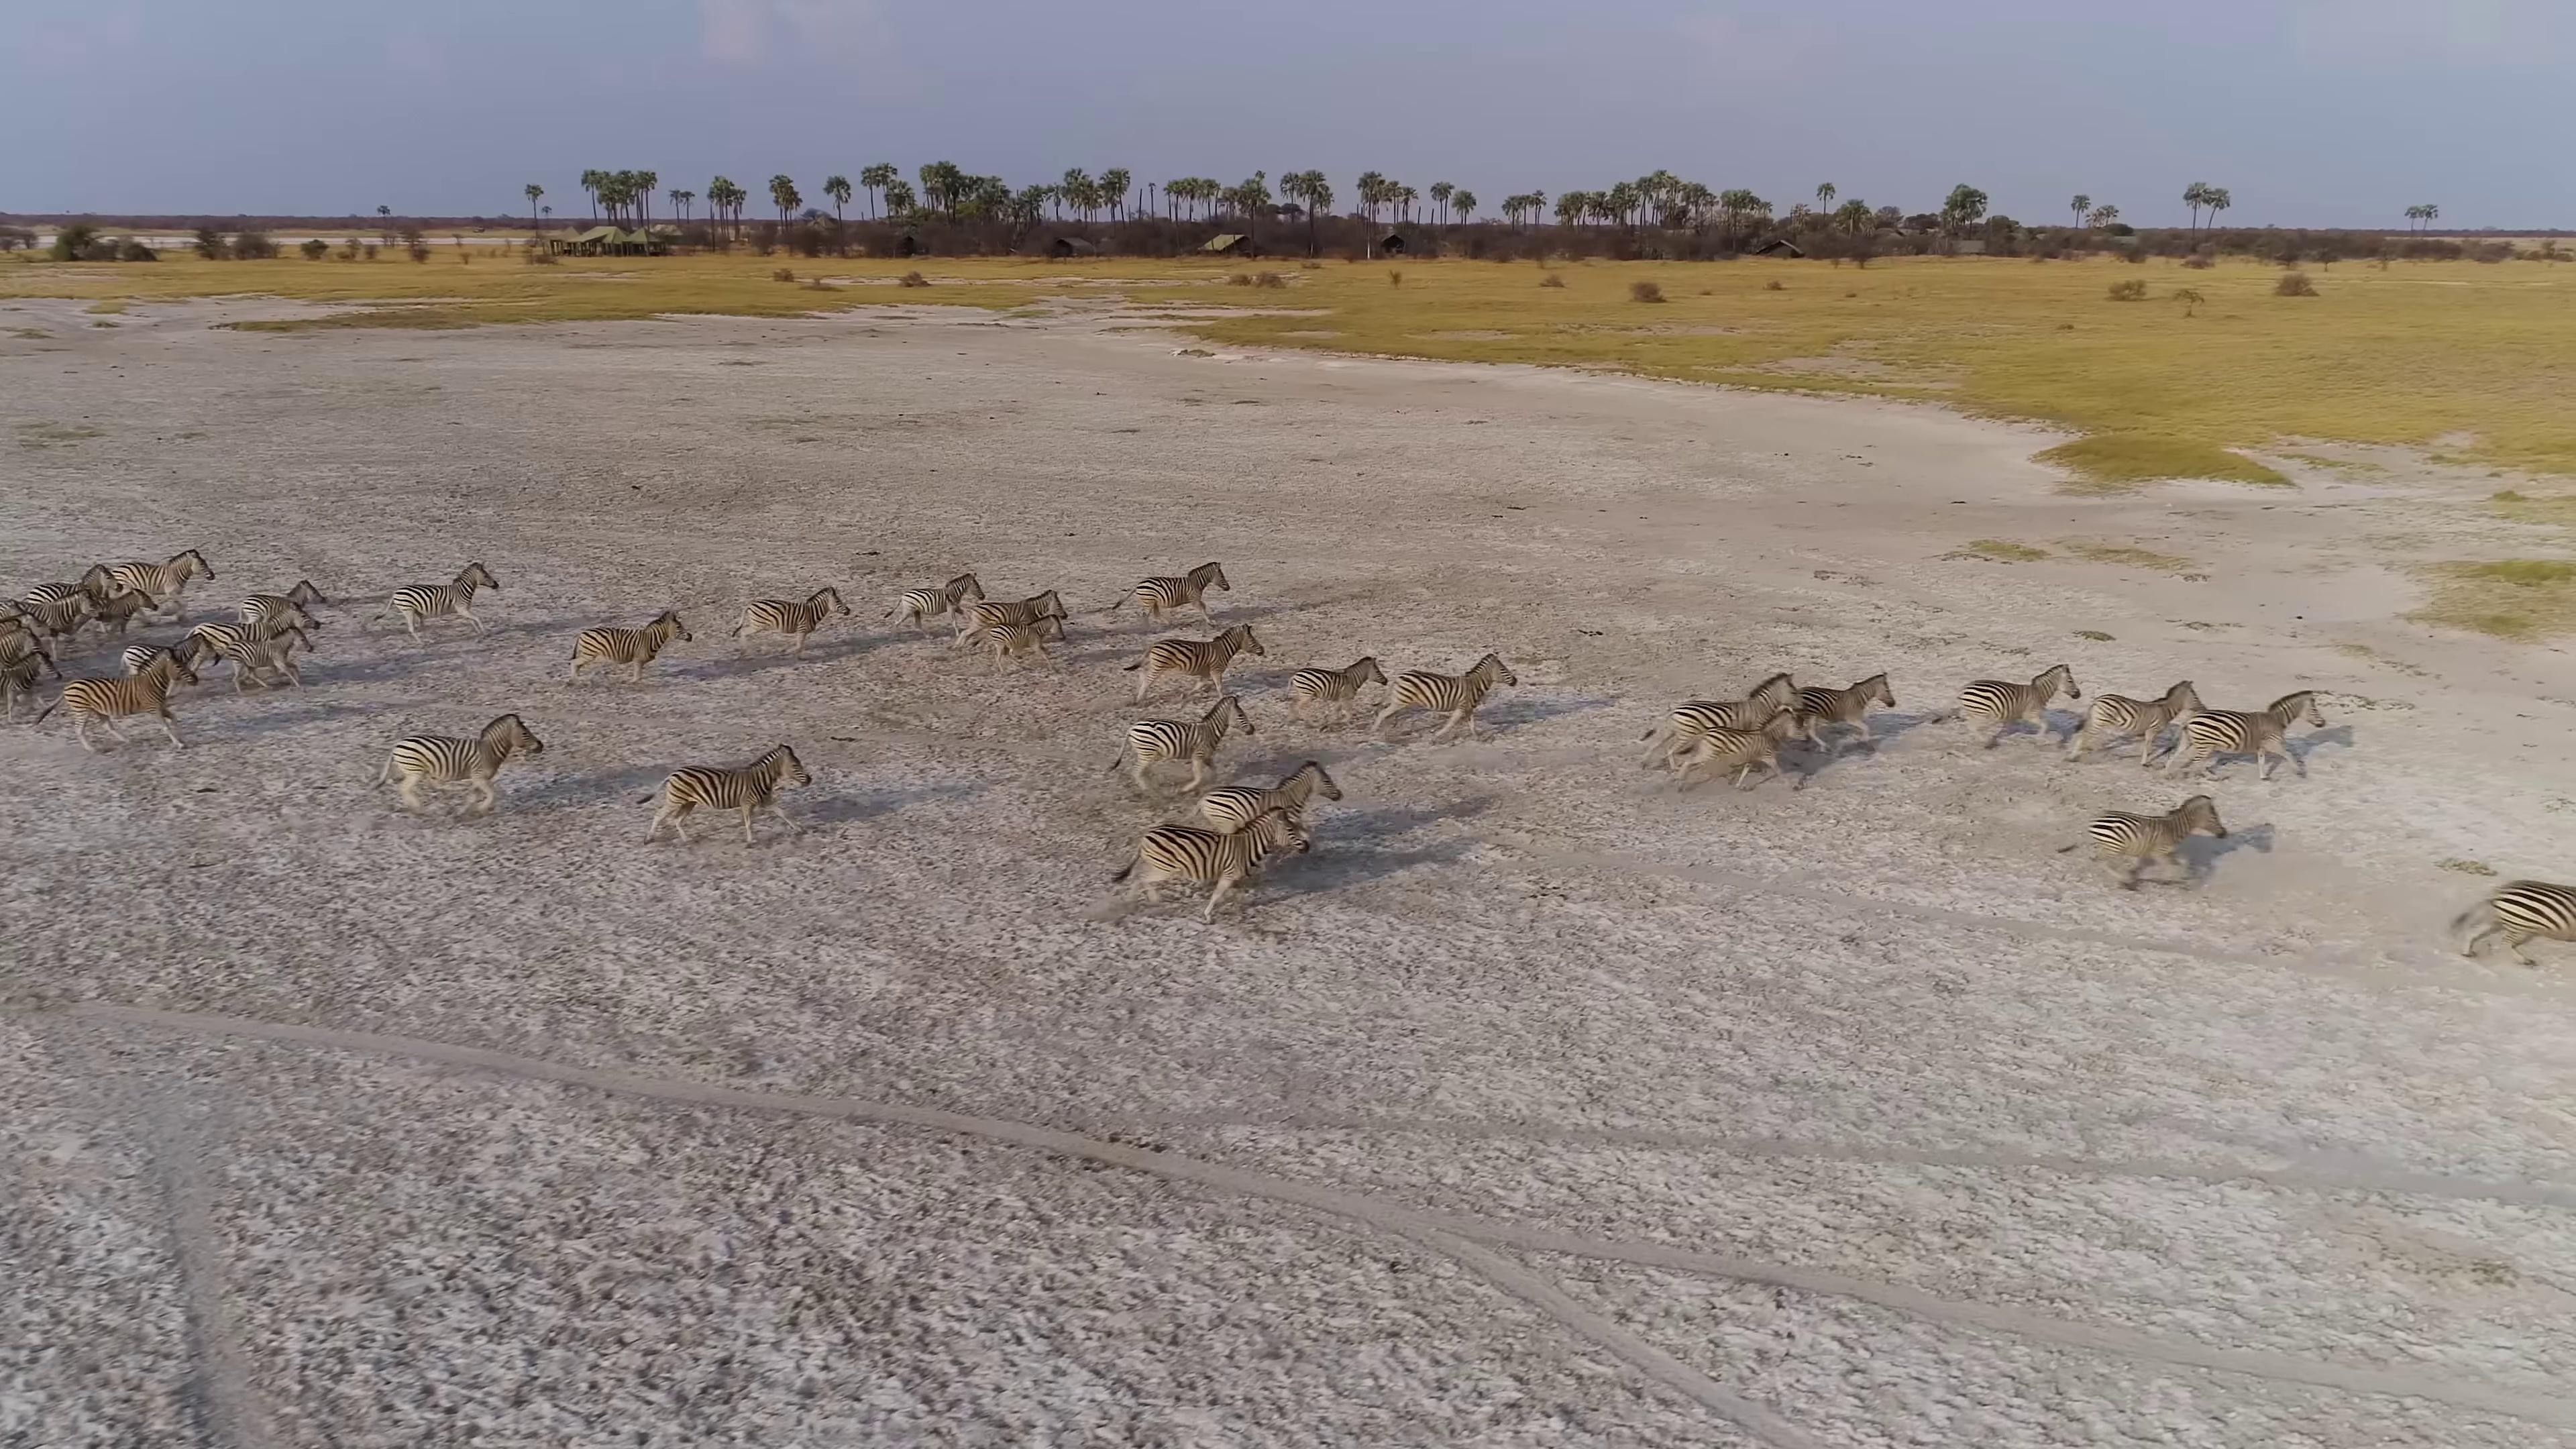Zebra: (1106, 798, 1327, 932), (364, 704, 554, 826), (633, 731, 816, 847), (2070, 782, 2236, 902), (2164, 683, 2346, 791), (1187, 750, 1352, 869), (37, 644, 202, 763), (1637, 662, 1808, 773), (1102, 686, 1267, 801), (1113, 612, 1274, 720), (1941, 655, 2097, 759), (2061, 667, 2212, 773), (1375, 646, 1523, 748), (1672, 702, 1821, 801), (368, 556, 504, 649), (189, 603, 327, 694), (566, 603, 695, 699), (1100, 552, 1244, 635), (727, 577, 855, 669), (1785, 665, 1913, 750), (952, 582, 1072, 662), (110, 538, 219, 625), (1284, 637, 1389, 727), (212, 614, 317, 701), (0, 586, 106, 667), (883, 566, 993, 639), (19, 559, 124, 628), (985, 612, 1067, 678), (0, 644, 69, 718), (97, 586, 163, 628)
